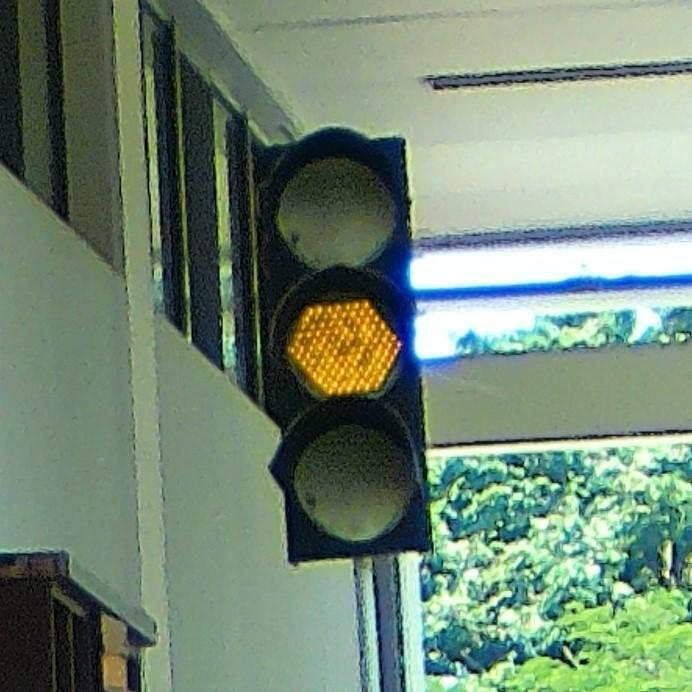yellow: (248, 123, 446, 572)
